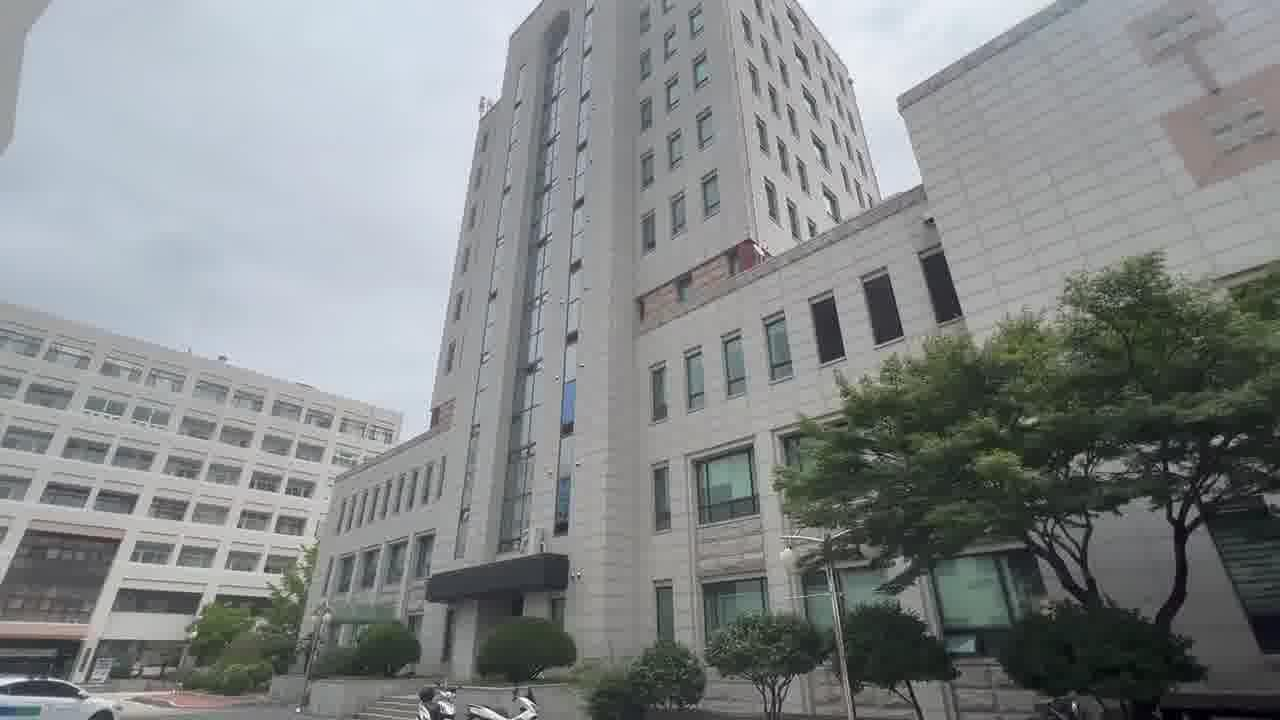building: (424, 12, 777, 593)
